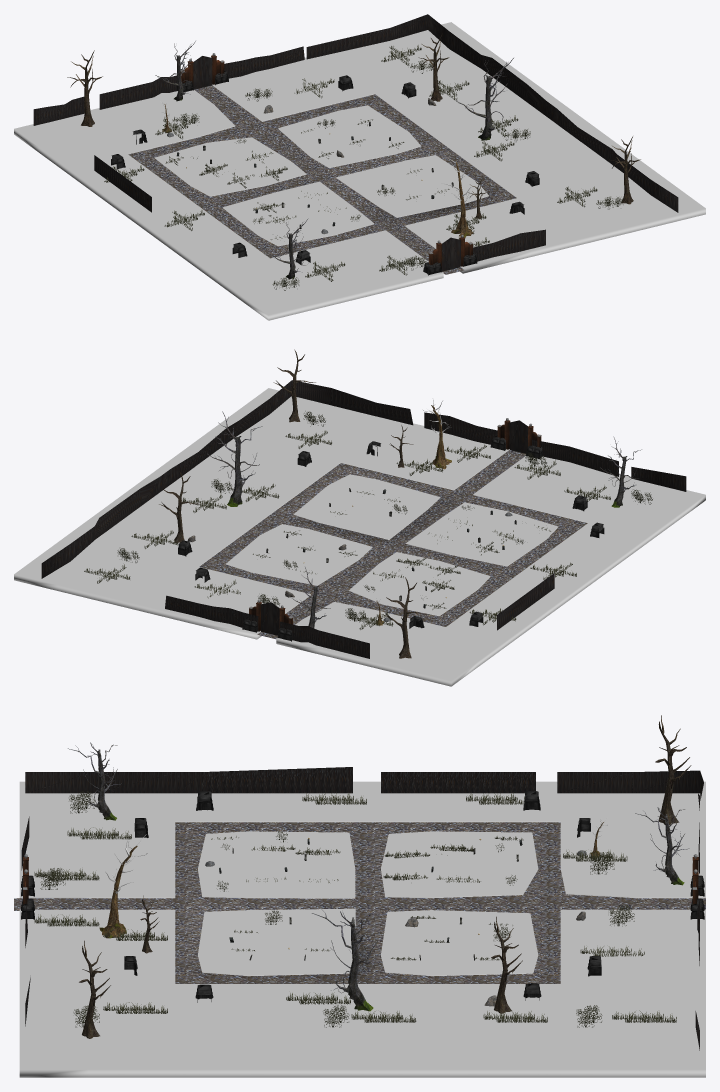
File: graveyard.fbx
3 views of the same model, one above another, from view 1: azimuth 30°, elevation 25°; view 2: azimuth 150°, elevation 25°; view 3: azimuth 270°, elevation 25° (orthographic). The views are drawn at different scales.
Visible parts, largest first — view 1: lawn, ground:Mesh, fence:Mesh, grassblades, gates1, shrubs13, Mausoleums, polySurface44, tree6, polySurface591, tree5; view 2: lawn, ground:Mesh, fence:Mesh, grassblades, gates1, shrubs13, Mausoleums, polySurface44, tree6, polySurface592; view 3: lawn, ground:Mesh, fence:Mesh, grassblades, shrubs13, Mausoleums, polySurface44, gates1, tree6, polySurface591, polySurface592, polySurface593 (+2 smaller).
Boxes of the visible parts, x1,y1,x2,y2 form: lawn: (14,22,705,320); ground:Mesh: (128,85,516,274); fence:Mesh: (33,14,678,261); grassblades: (104,45,597,281); gates1: (177,53,477,275); shrubs13: (172,60,623,290); Mausoleums: (111,75,539,265); polySurface44: (456,58,513,140); tree6: (67,50,102,126); polySurface591: (443,157,473,237); tree5: (609,136,640,204); lawn: (14,388,705,686); ground:Mesh: (199,450,587,639); fence:Mesh: (41,380,686,658); grassblades: (84,430,610,629); gates1: (242,418,542,641); shrubs13: (117,411,652,623); Mausoleums: (178,441,604,628); polySurface44: (207,411,262,506); tree6: (381,577,429,658); polySurface592: (600,436,641,507); lawn: (19,781,705,1077); ground:Mesh: (14,822,705,983); fence:Mesh: (21,767,703,1050); grassblades: (34,793,676,1022); shrubs13: (39,791,634,1027); Mausoleums: (124,791,601,1002); polySurface44: (312,909,382,1011); gates1: (21,854,704,919); tree6: (655,715,691,824); polySurface591: (99,833,147,938); polySurface592: (68,742,121,820); polySurface593: (635,807,689,885).
Size of the model in its own units: 22.69 by 4.76 by 23.07.
